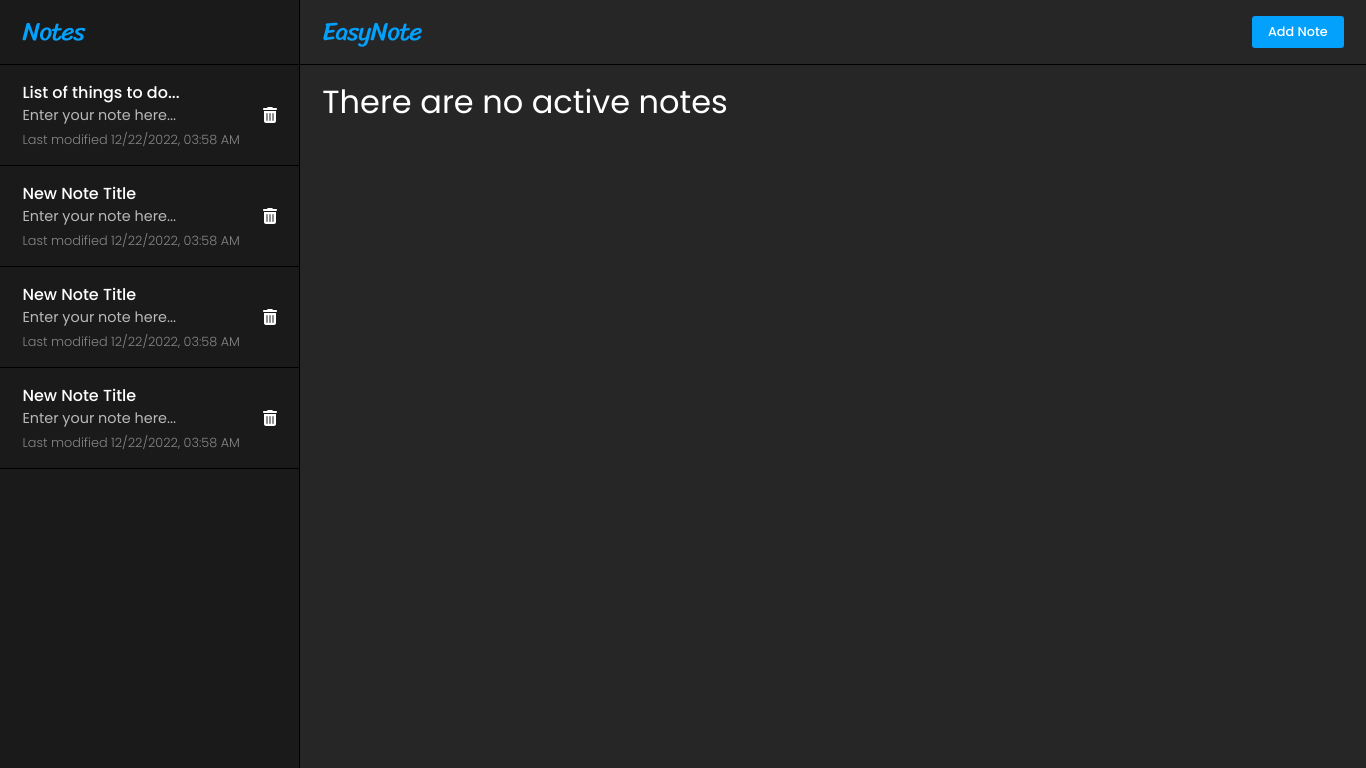
Test: truncate › should truncate body of note in sidebar
Click the button "Add Note". click: (1298, 32)
box: top-left (1252, 16), bottom-right (1344, 48)
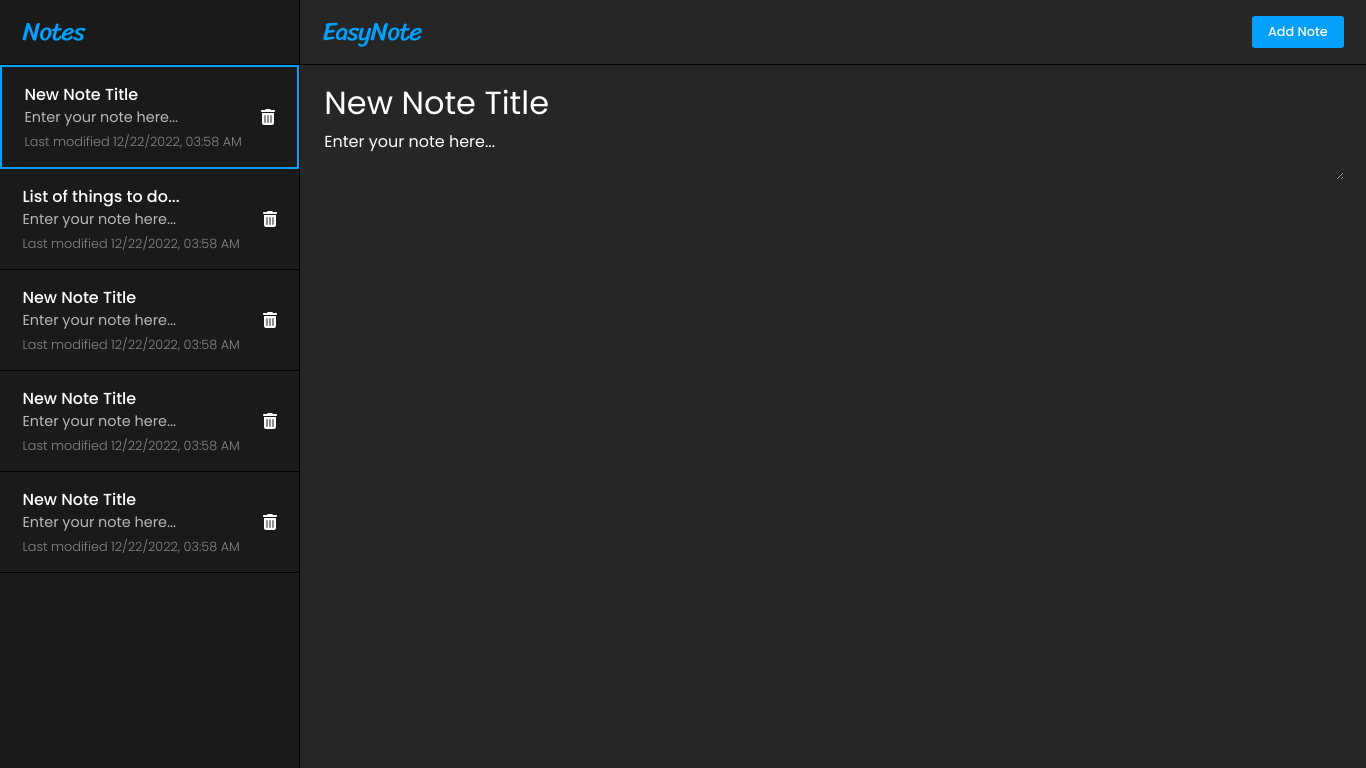
Replace the text in the text box with "These are all the things". click: (833, 154)
box: top-left (322, 128), bottom-right (1344, 180)
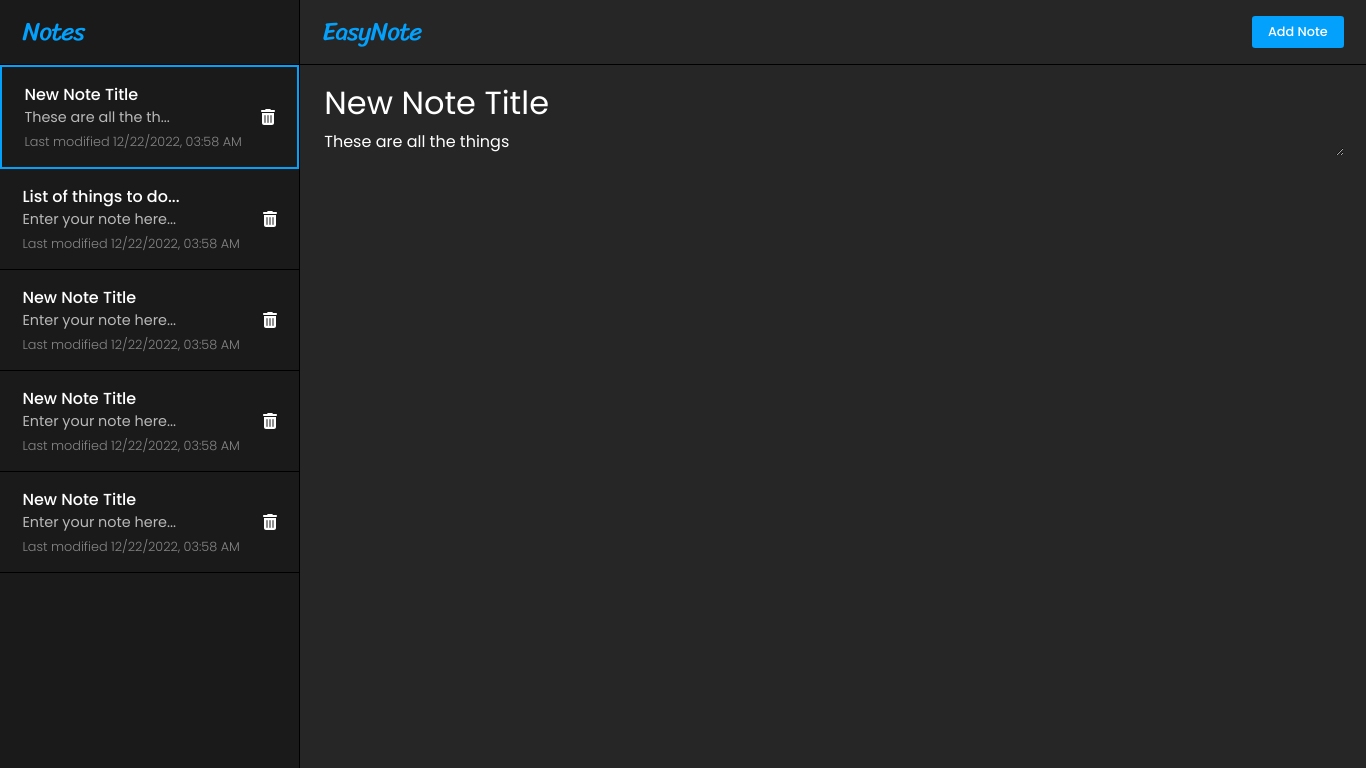
Now the text "These are all the th..." is shown, box top-left (24, 107), bottom-right (170, 127)
